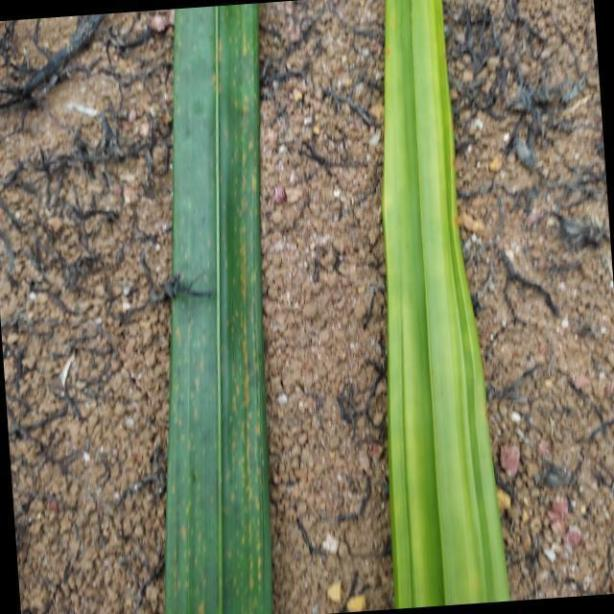nitrogen: (380, 0, 508, 614), (171, 0, 275, 614)
